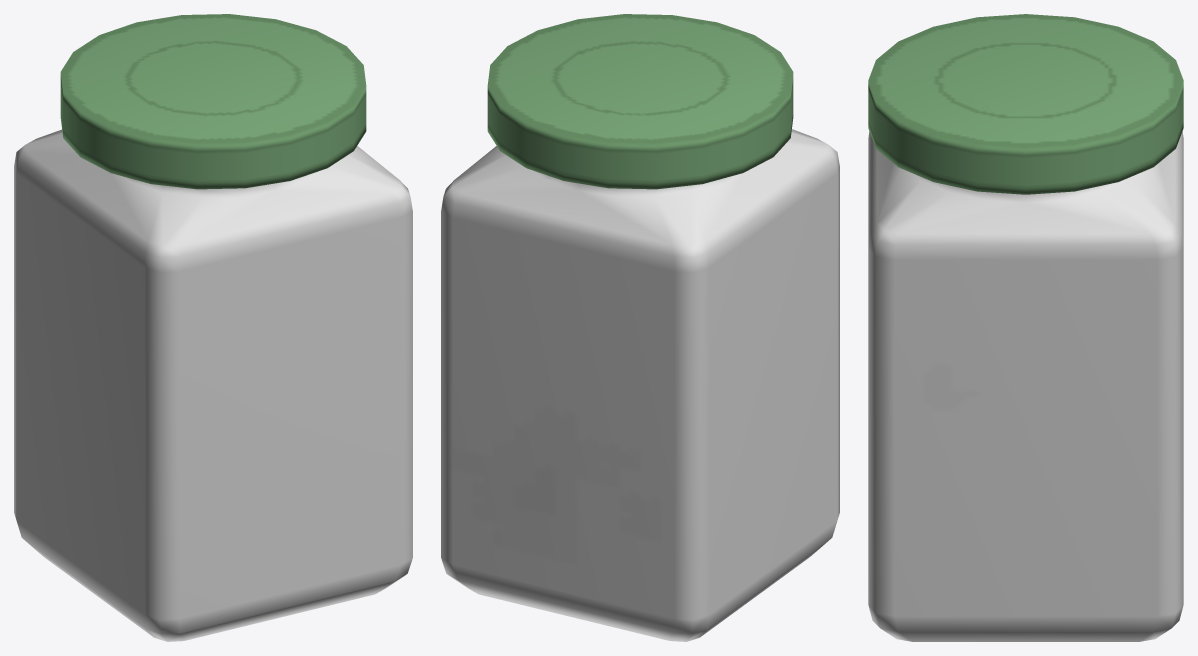
The model's file is pi_marmalade03.gltf.
The picture shows the model from 3 angles, left to right: view 1: azimuth 30°, elevation 25°; view 2: azimuth 150°, elevation 25°; view 3: azimuth 270°, elevation 25°; orthographic projection. The views are drawn at different scales.
Parts seen in each view (by area): view 1: pi_marmalade03_bottle_outside01_mesh_shape:pi_marmalade03_gl, pi_marmalade03_lid01_mesh_shape:pi_marmalade03_body; view 2: pi_marmalade03_bottle_outside01_mesh_shape:pi_marmalade03_gl, pi_marmalade03_lid01_mesh_shape:pi_marmalade03_body; view 3: pi_marmalade03_bottle_outside01_mesh_shape:pi_marmalade03_gl, pi_marmalade03_lid01_mesh_shape:pi_marmalade03_body.
Boxes of the visible parts, x1,y1,x2,y2 form: pi_marmalade03_bottle_outside01_mesh_shape:pi_marmalade03_gl: (14,129,412,641); pi_marmalade03_lid01_mesh_shape:pi_marmalade03_body: (60,14,366,189); pi_marmalade03_bottle_outside01_mesh_shape:pi_marmalade03_gl: (441,129,839,641); pi_marmalade03_lid01_mesh_shape:pi_marmalade03_body: (487,14,793,189); pi_marmalade03_bottle_outside01_mesh_shape:pi_marmalade03_gl: (868,131,1183,641); pi_marmalade03_lid01_mesh_shape:pi_marmalade03_body: (868,14,1183,194).
Size of the model in its own units: 0.0648 by 0.1142 by 0.0648.
4 materials, 4 textured.
